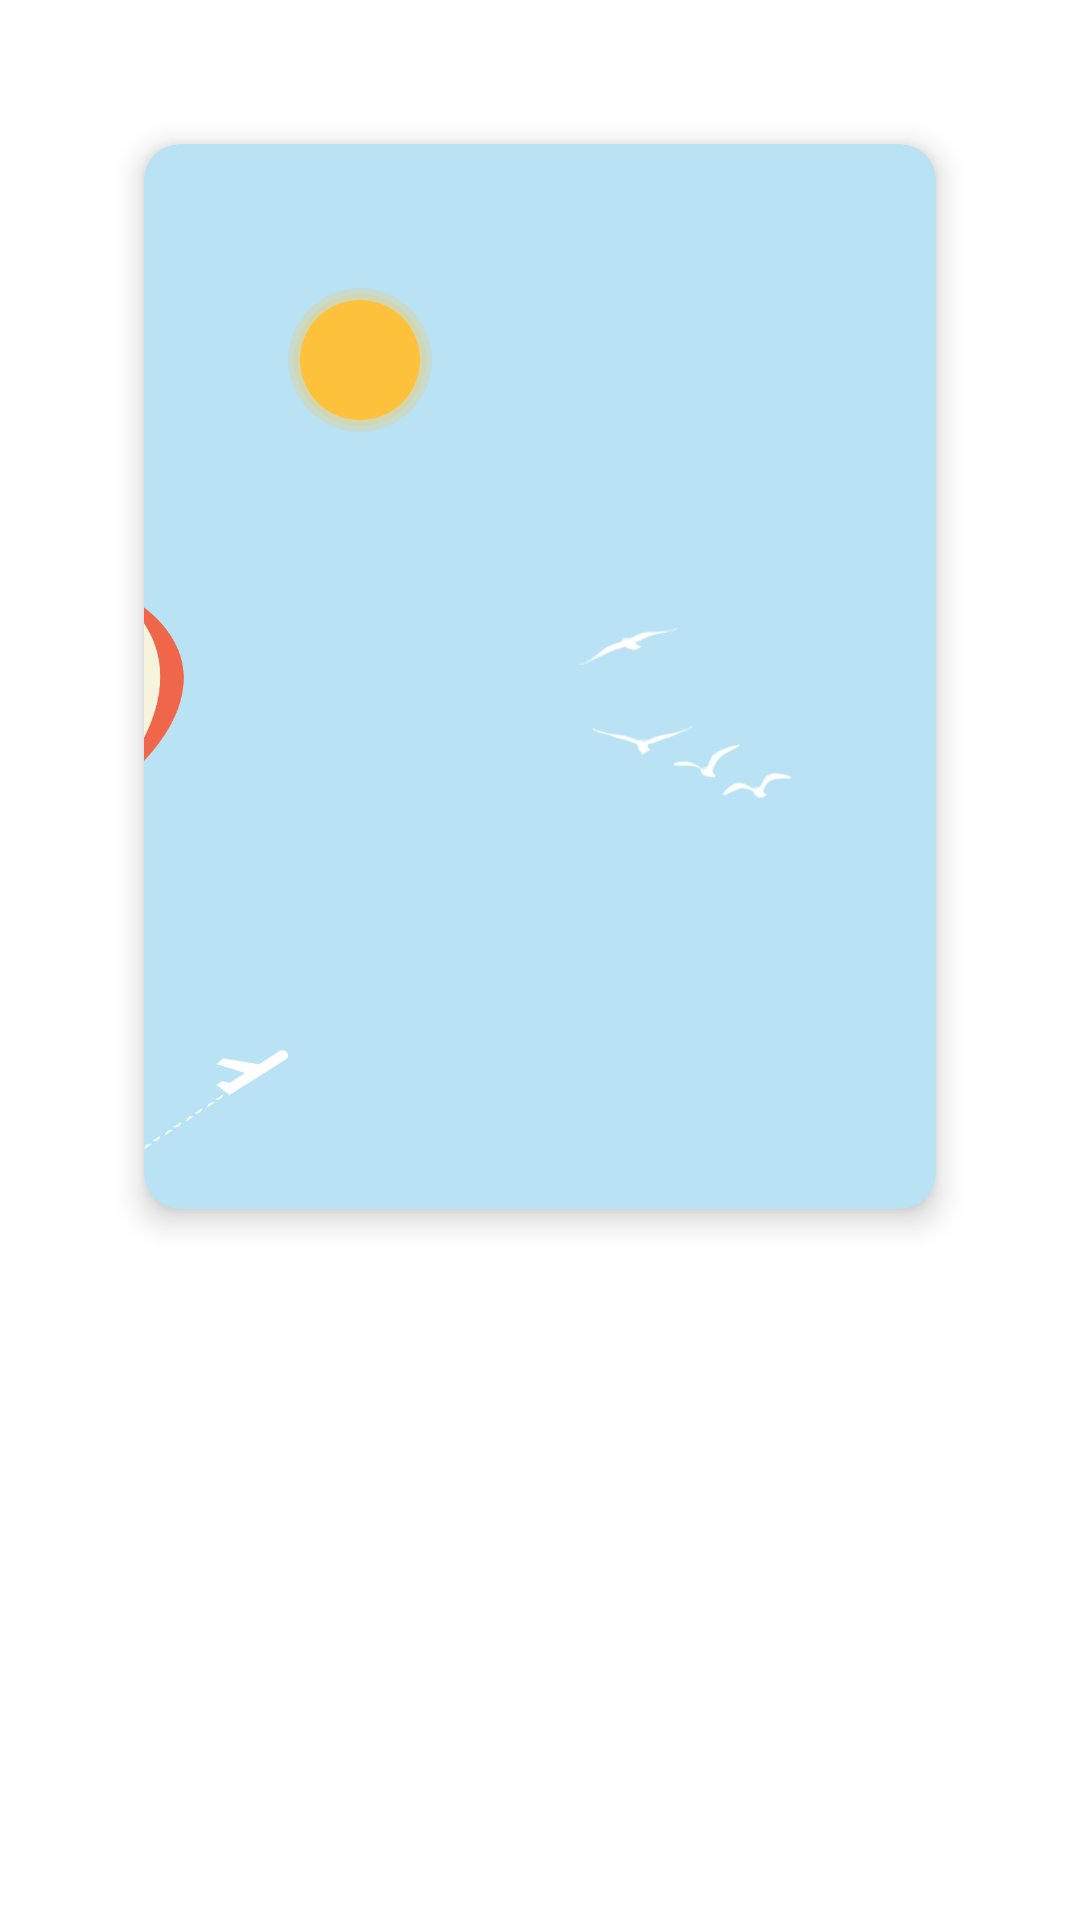

Screen size 1080*1920. Icon name, then its center in pixels as point (x, y):
bird: point (688, 714)
plane: point (220, 1095)
